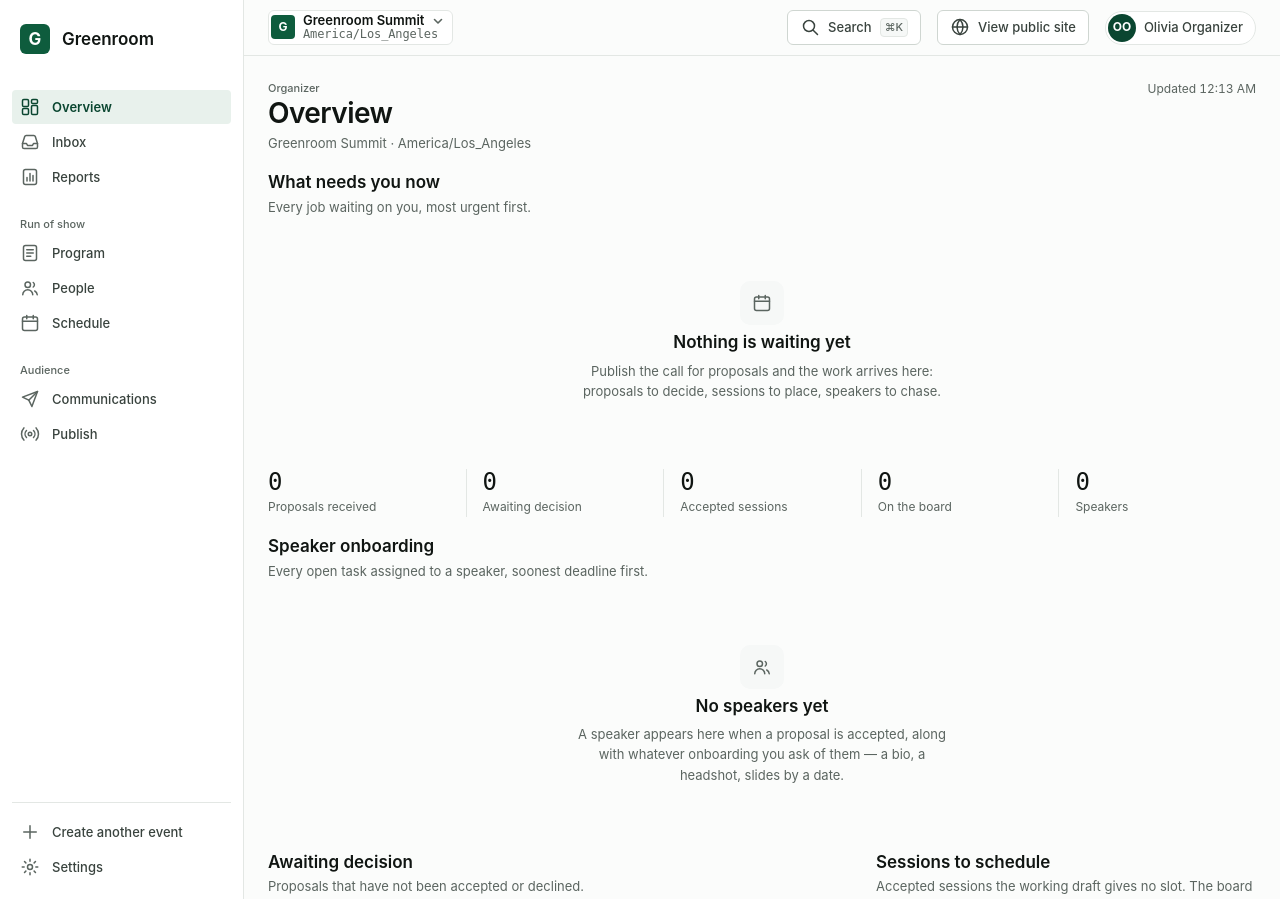
Test: App › lands an organizer on the overview with role-aware navigation
This screenshot has width=1280, height=899.
Expected: the heading "Overview" is shown, [268,96,392,130]
Expected: the dropdown named "Event workspace" reads "Greenroom Summit", [303,13,444,28]
Click the button with aria-label "Account and access": (1180, 28) [1105,10,1256,44]
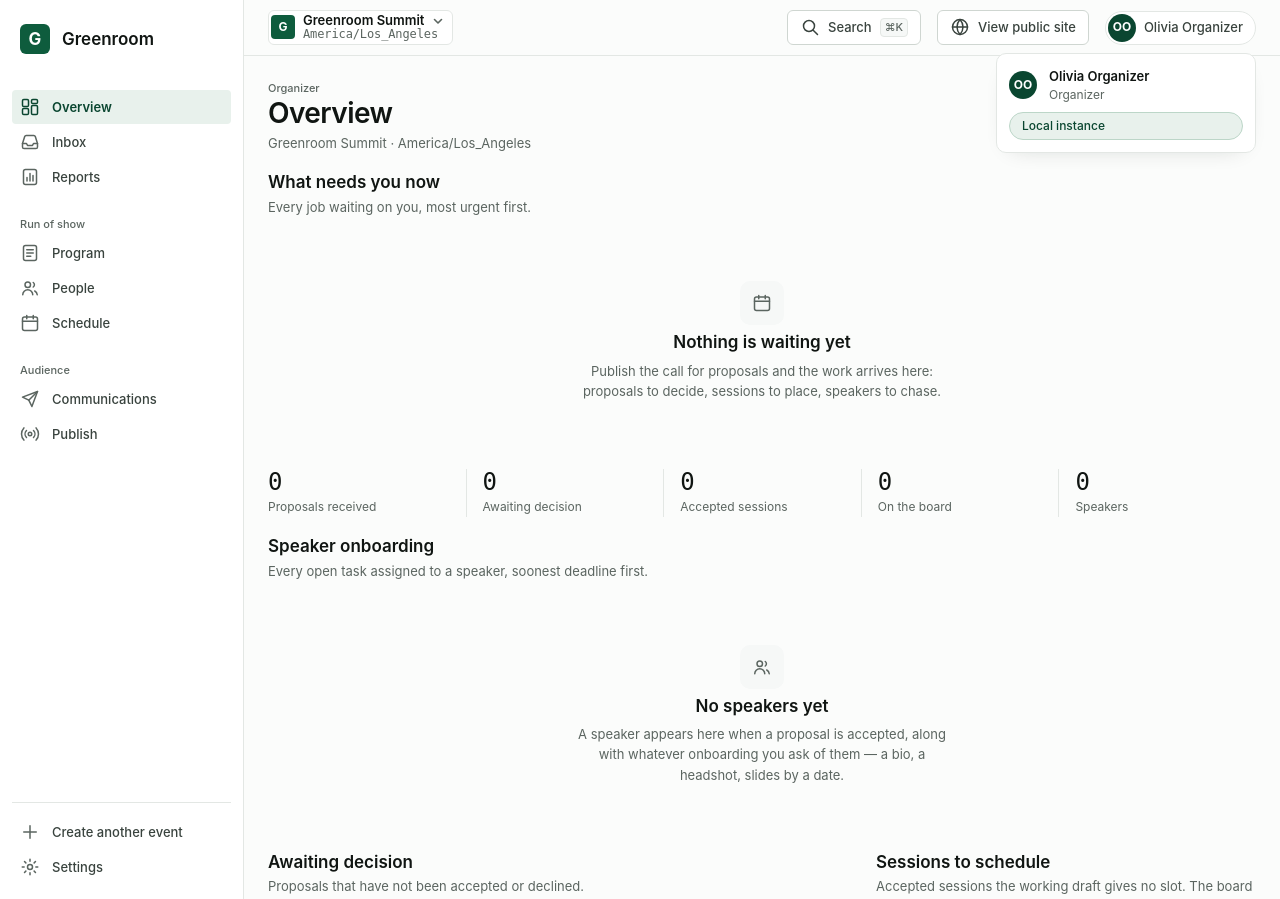
Expected: the text "Local instance" is shown, [1009,112,1243,140]
